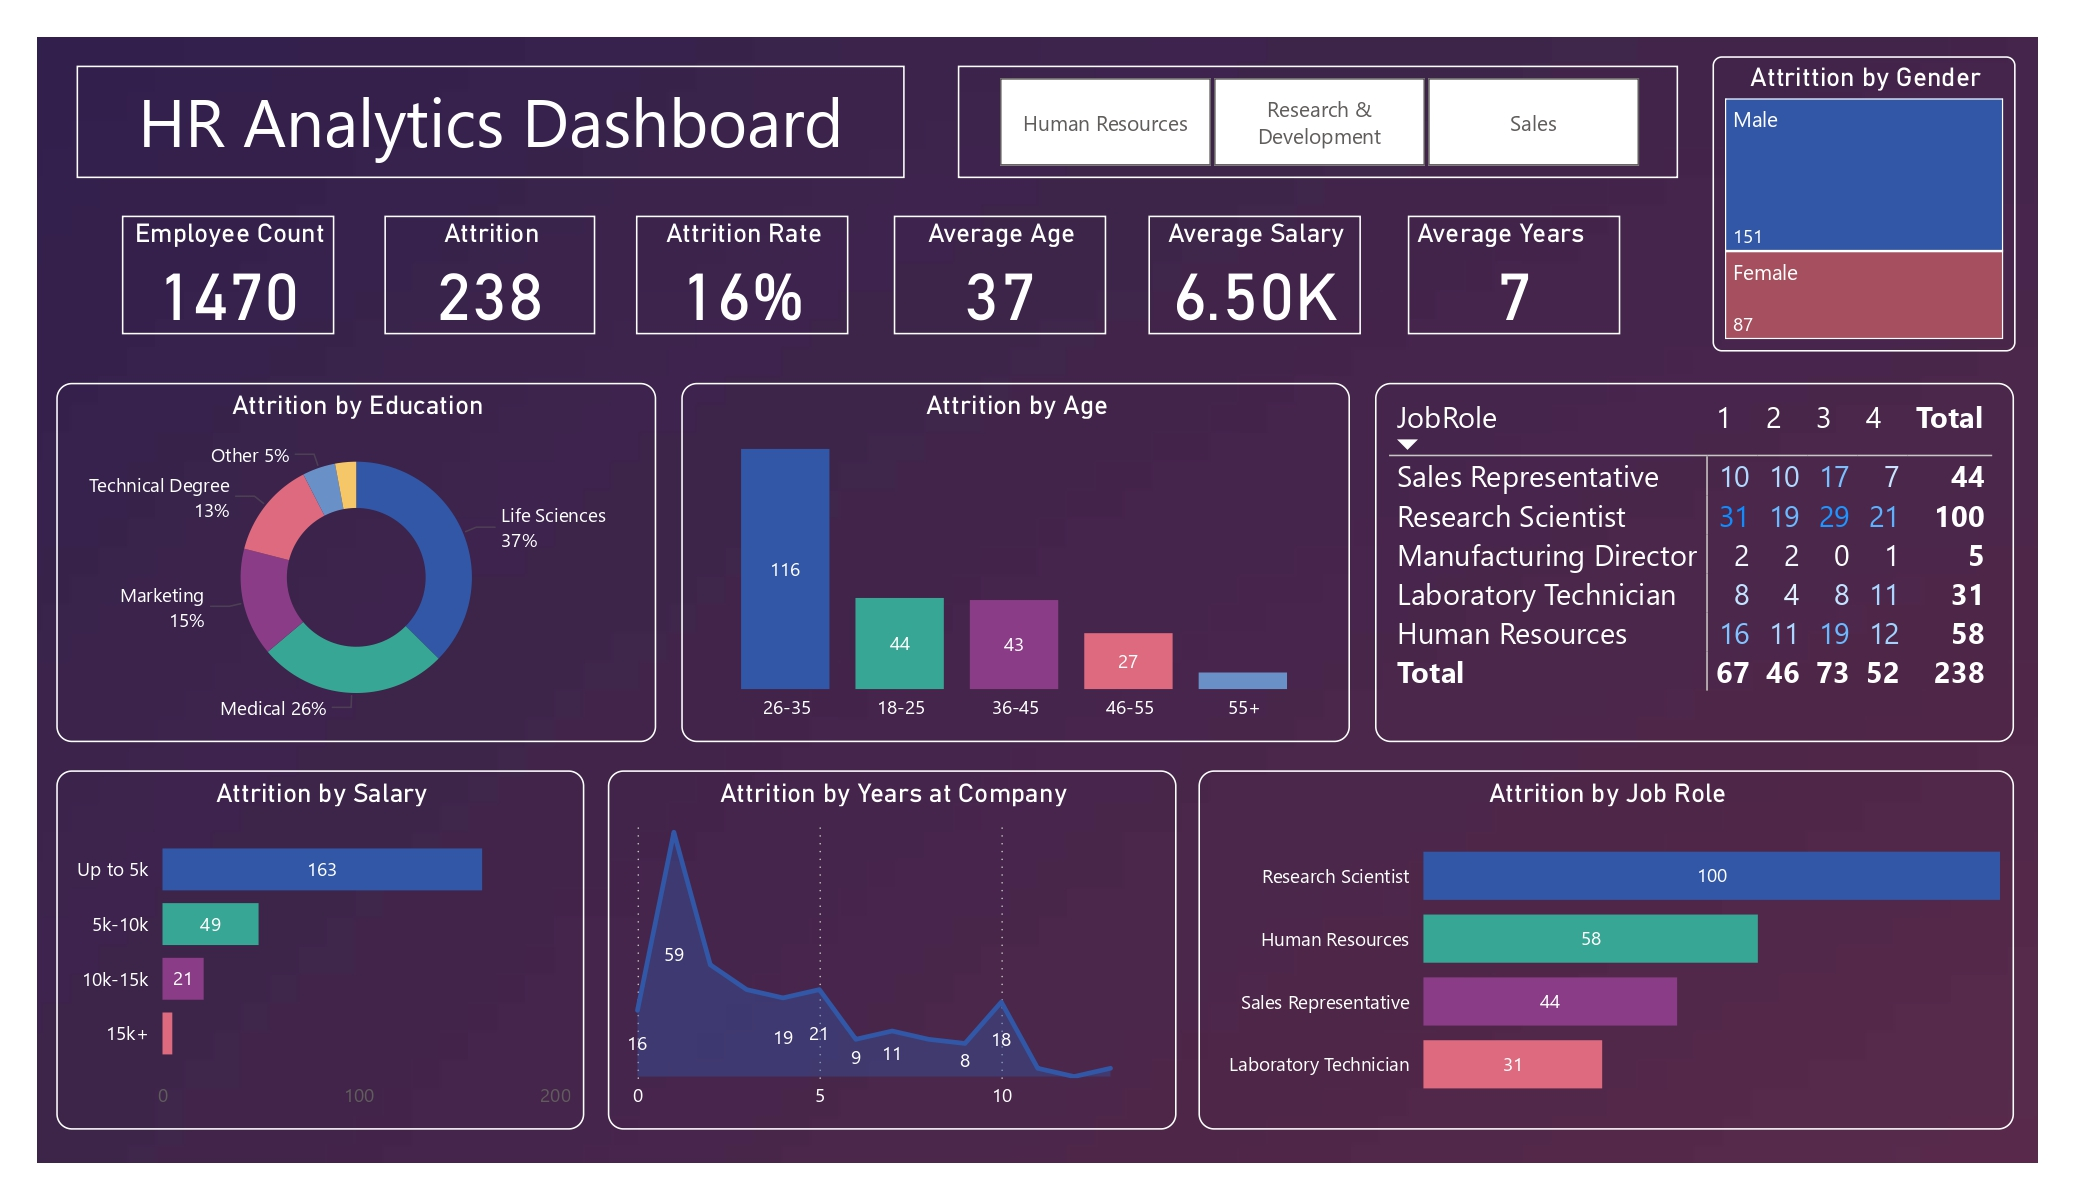

The dashboard page shown, as its layout file describes it:
{"tool":"powerbi","page":{"name":"Page 1","canvas":[1280,720],"ordinal":0},"visuals":[{"type":"card","title":"Employee Count","fields":{"Values":["Count(HR_Data.EmpID)"]},"box":[54.2,114.1,136.2,75.6],"z":0},{"type":"card","title":"Attrition","fields":{"Values":["Sum(HR_Data.Attirtion_Count)"]},"box":[221.8,114.1,135.5,75.6],"z":1000},{"type":"card","title":"Attrition Rate","fields":{"Values":["HR_Data.Attrition_Rate"]},"box":[382.9,114.1,136.2,75.6],"z":2000},{"type":"card","title":"Average Age","fields":{"Values":["Avg(HR_Data.Age)"]},"box":[547.7,114.1,136.2,75.6],"z":3000},{"type":"card","title":"Average Salary","fields":{"Values":["Avg(HR_Data.MonthlyIncome)"]},"box":[711,114.1,136.2,75.6],"z":4000},{"type":"card","title":"Average Years","fields":{"Values":["Avg(HR_Data.YearsAtCompany)"]},"box":[877.1,114.1,135.5,75.6],"z":5000},{"type":"textbox","box":[25,17.8,529.8,72],"z":6000},{"type":"slicer","title":"Departments","fields":{"Values":["Departments.Department"]},"box":[589,17.8,460.7,72],"z":7000},{"type":"treemap","title":"Attrittion by Gender","fields":{"Group":["HR_Data.Gender"],"Values":["Sum(HR_Data.Attirtion_Count)"]},"box":[1071.8,12.1,194,189],"z":8000},{"type":"donutChart","title":"Attrition by Education","fields":{"Category":["Education.Education"],"Y":["Sum(HR_Data.Attirtion_Count)"]},"box":[12.1,221.1,383.6,230],"z":9000},{"type":"barChart","title":"Attrition by Salary","fields":{"Category":["HR_Data.SalarySlab"],"Y":["Sum(HR_Data.Attirtion_Count)"],"Series":["HR_Data.SalarySlab"]},"box":[12.1,468.5,338,230.3],"z":10000},{"type":"pivotTable","title":"Attrition by Education","fields":{"Rows":["Jobs.JobRole"],"Columns":["HR_Data.JobSatisfaction"],"Values":["Sum(HR_Data.Attirtion_Count)"]},"box":[856.4,221.1,408.6,230.3],"z":11000},{"type":"stackedAreaChart","title":"Attrition by Years at Company","fields":{"Category":["HR_Data.YearsAtCompany"],"Y":["Sum(HR_Data.Attirtion_Count)"]},"box":[365.1,468.5,364.4,230.3],"z":12000},{"type":"columnChart","title":"Attrition by Age","fields":{"Y":["Sum(HR_Data.Attirtion_Count)"],"Category":["HR_Data.AgeGroup"],"Series":["HR_Data.AgeGroup"]},"box":[412.2,221.1,427.9,230],"z":13000},{"type":"barChart","title":"Attrition by Job Role","fields":{"Y":["Sum(HR_Data.Attirtion_Count)"],"Series":["Jobs.JobRole"],"Category":["Jobs.JobRole"]},"box":[743,468.5,522,230.3],"z":14000}]}

Visuals, with their boxes in screenshot pixels (x1, y1, x2, y2):
"Employee Count" card: (left=97, top=220, right=315, bottom=341)
"Attrition" card: (left=365, top=220, right=582, bottom=341)
"Attrition Rate" card: (left=623, top=220, right=841, bottom=341)
"Average Age" card: (left=886, top=220, right=1104, bottom=341)
"Average Salary" card: (left=1147, top=220, right=1365, bottom=341)
"Average Years" card: (left=1413, top=220, right=1630, bottom=341)
textbox: (left=51, top=66, right=898, bottom=181)
"Departments" slicer: (left=952, top=66, right=1689, bottom=181)
"Attrittion by Gender" treemap: (left=1724, top=57, right=2034, bottom=359)
"Attrition by Education" donutChart: (left=30, top=391, right=643, bottom=759)
"Attrition by Salary" barChart: (left=30, top=787, right=571, bottom=1155)
"Attrition by Education" pivotTable: (left=1380, top=391, right=2033, bottom=759)
"Attrition by Years at Company" stackedAreaChart: (left=594, top=787, right=1177, bottom=1155)
"Attrition by Age" columnChart: (left=670, top=391, right=1354, bottom=759)
"Attrition by Job Role" barChart: (left=1199, top=787, right=2033, bottom=1155)
